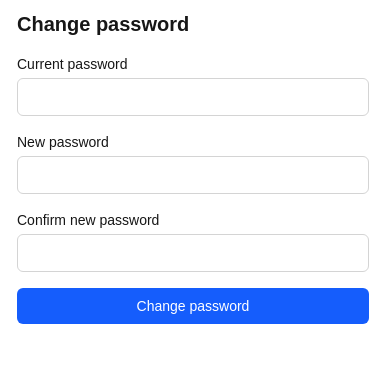
Scenario: ChangePasswordFormView › rejects a confirmation that does not match the new password
Type "old-password" into the password field labelled "Current password" at (193, 97), box top-left (17, 78), bottom-right (369, 116)
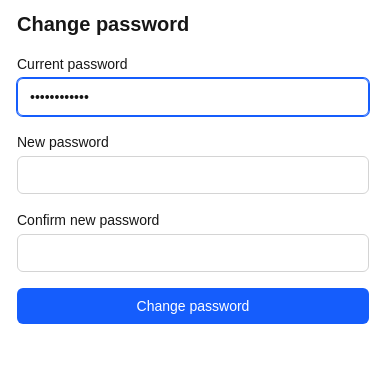
Type "new-password" into the password field labelled "New password" at (193, 175), box top-left (17, 156), bottom-right (369, 194)
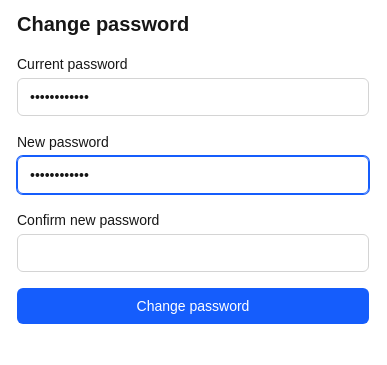
Type "something-else" into the password field labelled "Confirm new password" at (193, 253), box top-left (17, 234), bottom-right (369, 272)
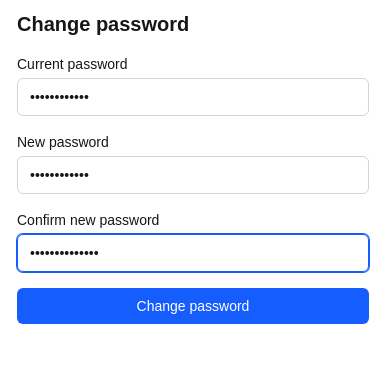
Click the button "Change password" at (193, 306), box top-left (17, 288), bottom-right (369, 324)
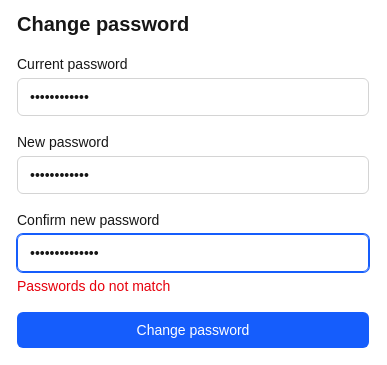
Now the text "Passwords do not match" is shown, box top-left (17, 278), bottom-right (170, 294)
